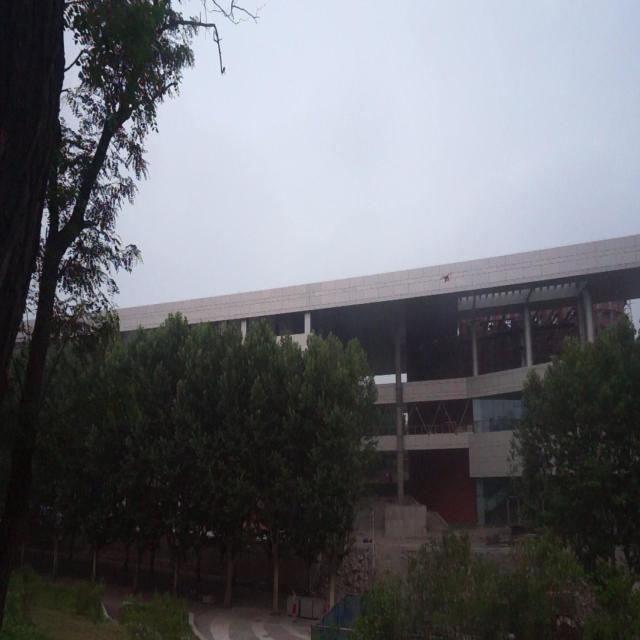drone: (440, 270, 454, 285)
